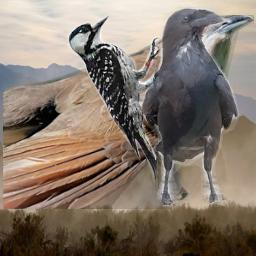Crow: (138, 7, 240, 207)
Cuckoo: (3, 15, 254, 209)
Woodpecker: (66, 15, 163, 189)
